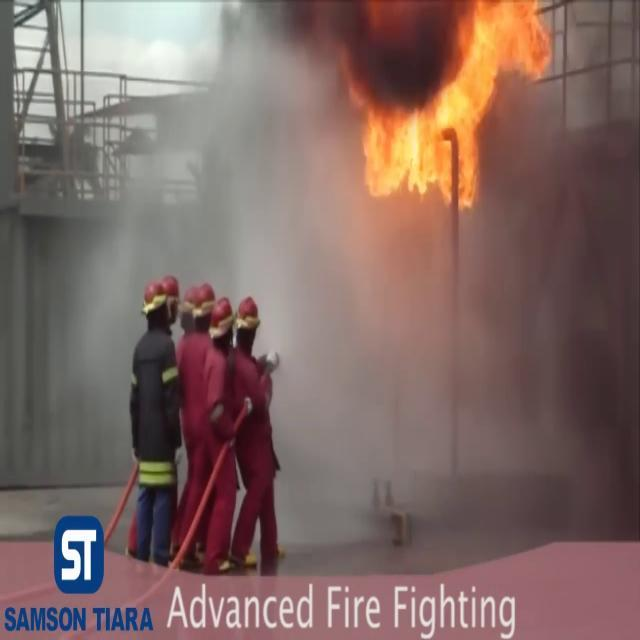Fire: (362, 1, 550, 236)
Smoke: (245, 3, 626, 531)
